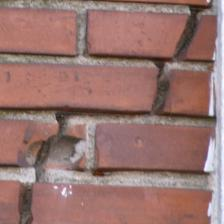Crack: (7, 7, 123, 118), (0, 75, 97, 134)
